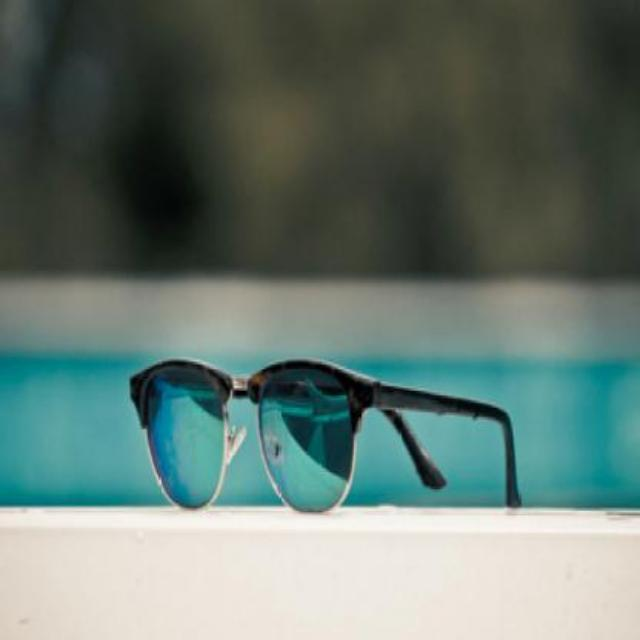sunglasses: (128, 355, 522, 513)
